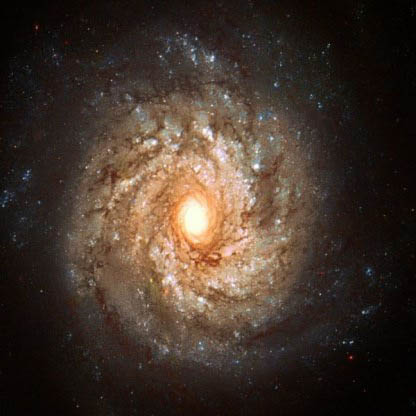NGC 3982: (37, 22, 363, 384)
